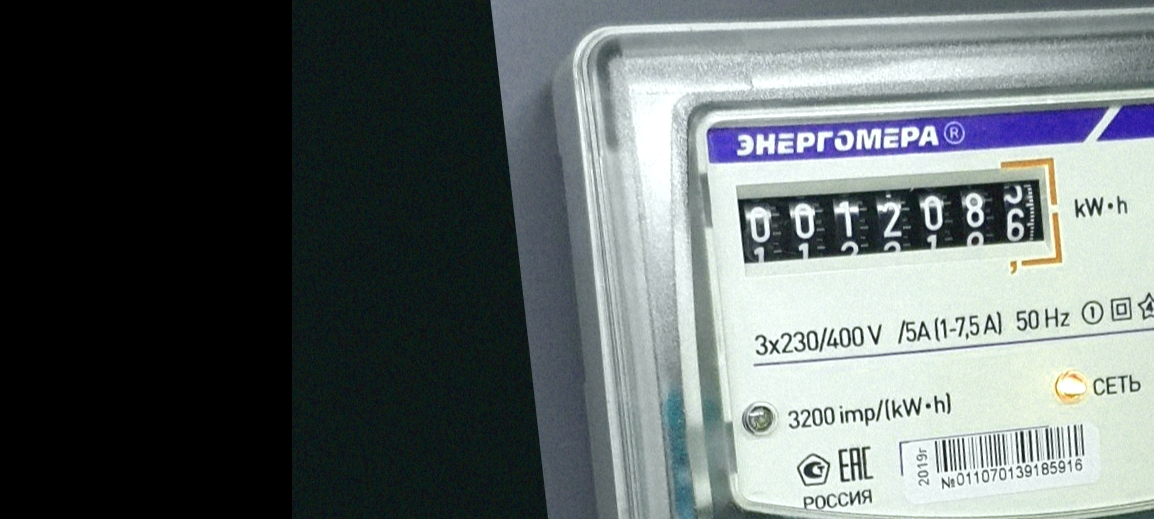0: (790, 197, 822, 242), (747, 200, 775, 245), (921, 191, 948, 232)
1: (835, 196, 861, 239)
2: (878, 198, 907, 239)
6: (1002, 204, 1030, 242)
8: (963, 187, 989, 230)
screen: (726, 135, 1079, 311)
